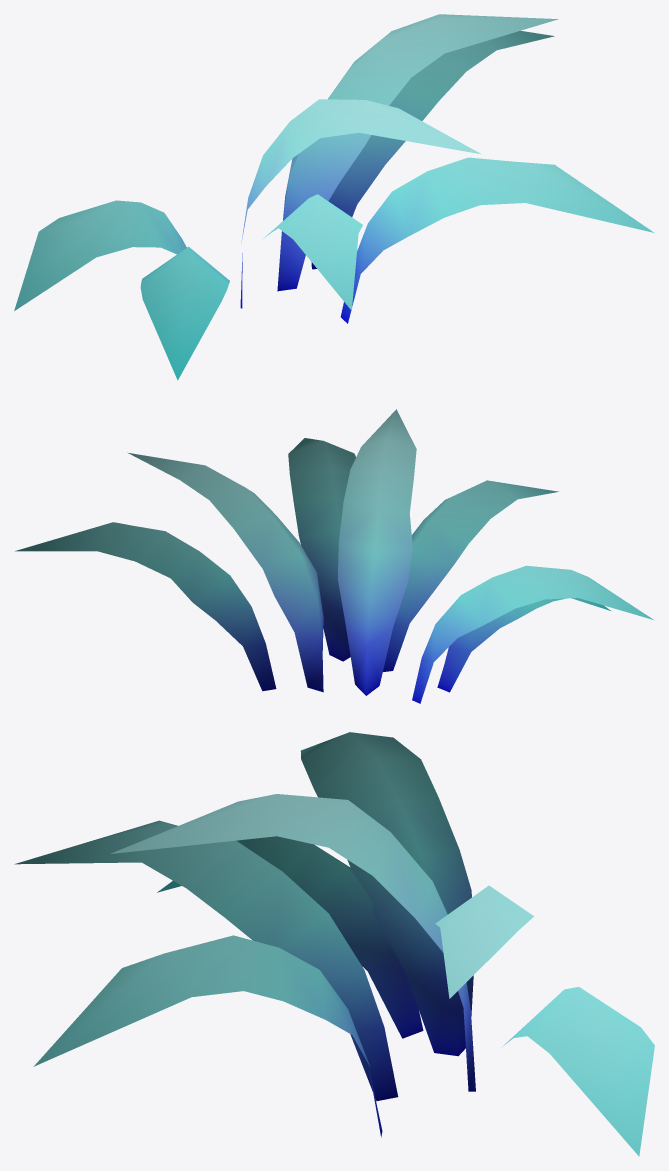
Rendered from SM_Env_Fern_Part_02.glb.
The picture shows the model from 3 angles, top to bottom: view 1: azimuth 30°, elevation 25°; view 2: azimuth 150°, elevation 25°; view 3: azimuth 270°, elevation 25°; orthographic projection. The views are drawn at different scales.
Parts seen in each view (by area): view 1: SM_Env_Fern_Part_02_LOD0; view 2: SM_Env_Fern_Part_02_LOD0; view 3: SM_Env_Fern_Part_02_LOD0.
Boxes of the visible parts, <box> form: SM_Env_Fern_Part_02_LOD0: <box>14,14,654,380</box>; SM_Env_Fern_Part_02_LOD0: <box>15,409,654,703</box>; SM_Env_Fern_Part_02_LOD0: <box>14,732,654,1156</box>.
Size of what is drawn, in the model's own units: 3.85 by 1.38 by 2.43.
